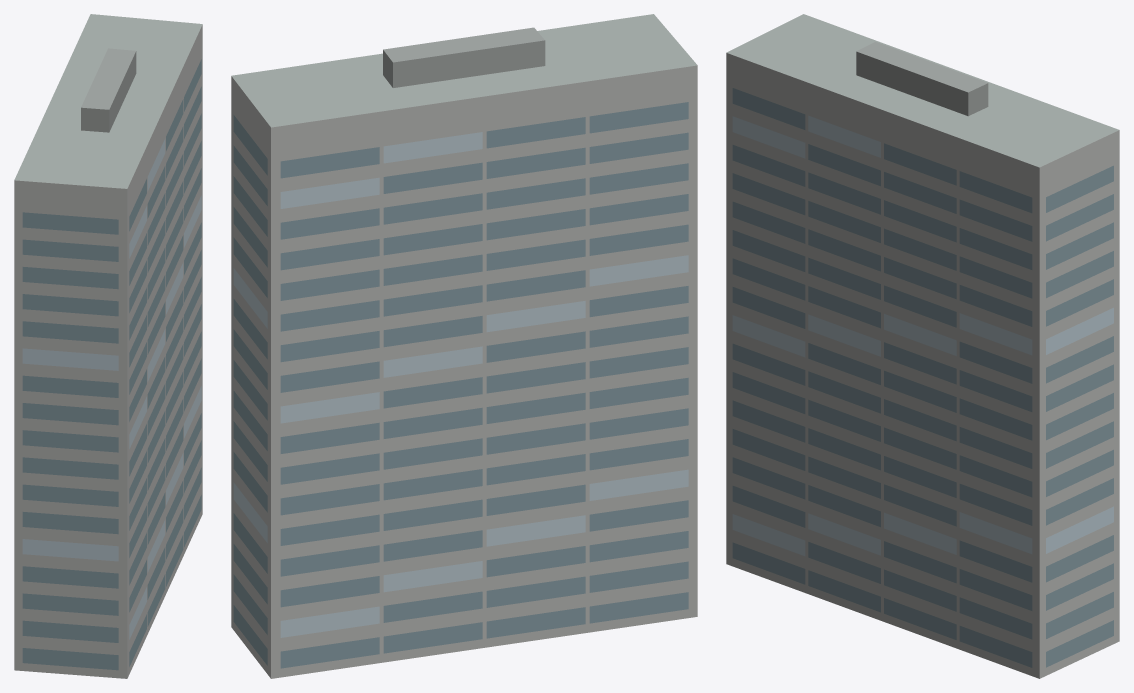
File: fallback-dmc-raemian-e-pyeonhansesang-105.glb
3 views of the same model, side by side, from view 1: azimuth 30°, elevation 25°; view 2: azimuth 150°, elevation 25°; view 3: azimuth 270°, elevation 25° (orthographic). The views are drawn at different scales.
Visible parts, largest first — view 1: fallback-dmc-raemian-e-pyeonhansesang-105; view 2: fallback-dmc-raemian-e-pyeonhansesang-105; view 3: fallback-dmc-raemian-e-pyeonhansesang-105.
Boxes of the visible parts, x1,y1,x2,y2 form: fallback-dmc-raemian-e-pyeonhansesang-105: [14, 14, 202, 678]; fallback-dmc-raemian-e-pyeonhansesang-105: [231, 14, 697, 678]; fallback-dmc-raemian-e-pyeonhansesang-105: [726, 14, 1119, 678].
Size of the model in its own units: 33.24 by 54 by 35.98.
